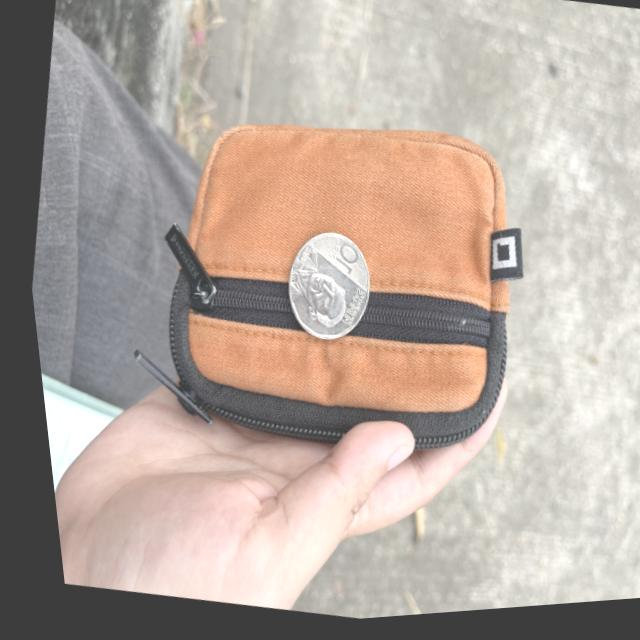10_New_Front: (315, 238, 360, 286)
